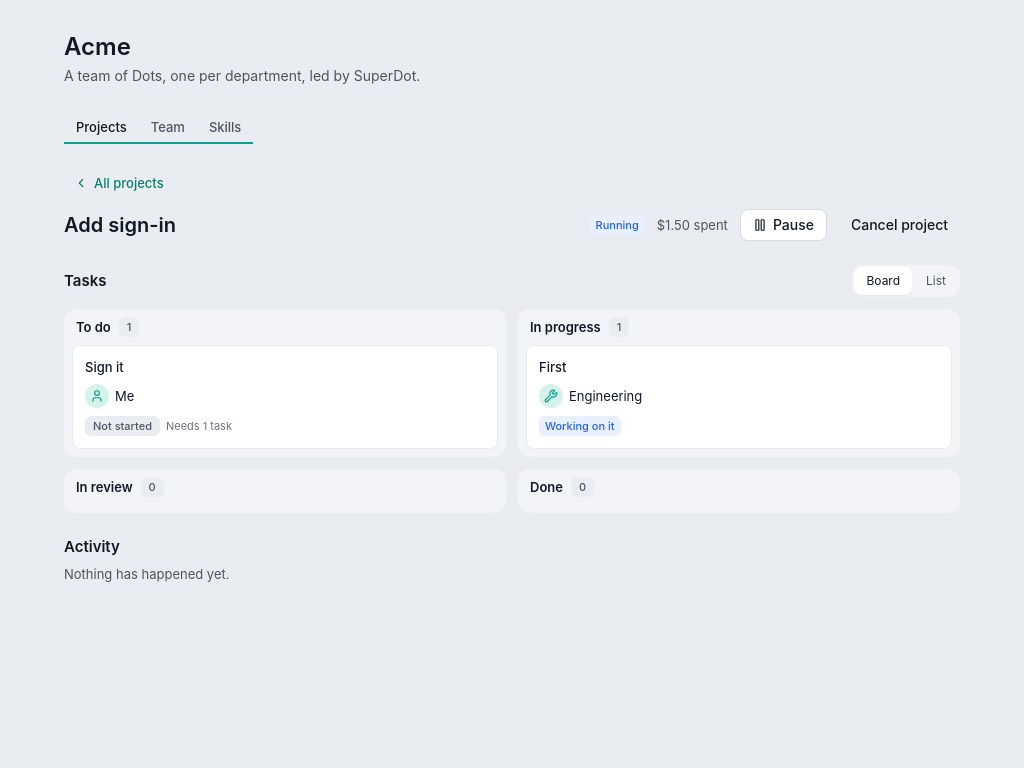
Scenario: task drawer › keeps 'I did this' off until the earlier tasks are done
Click the button "Sign it Me Not started Needs 1 task": (104, 367) [72,345,498,449]
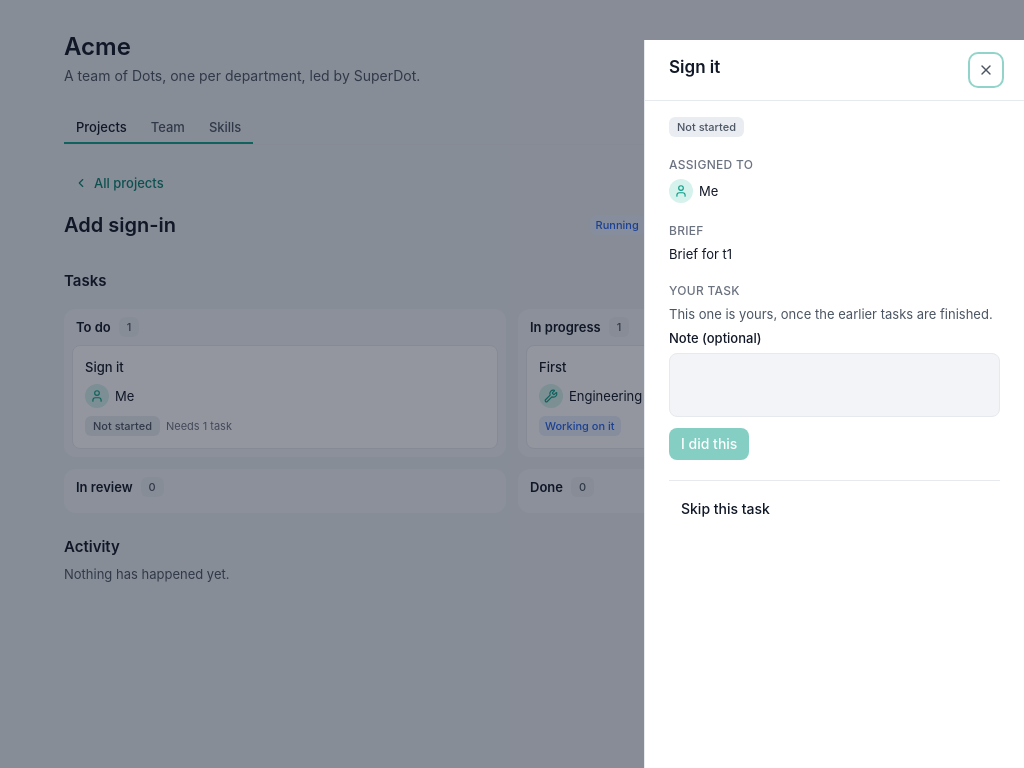
Expected: the button "I did this" is disabled, [669,428,749,460]
